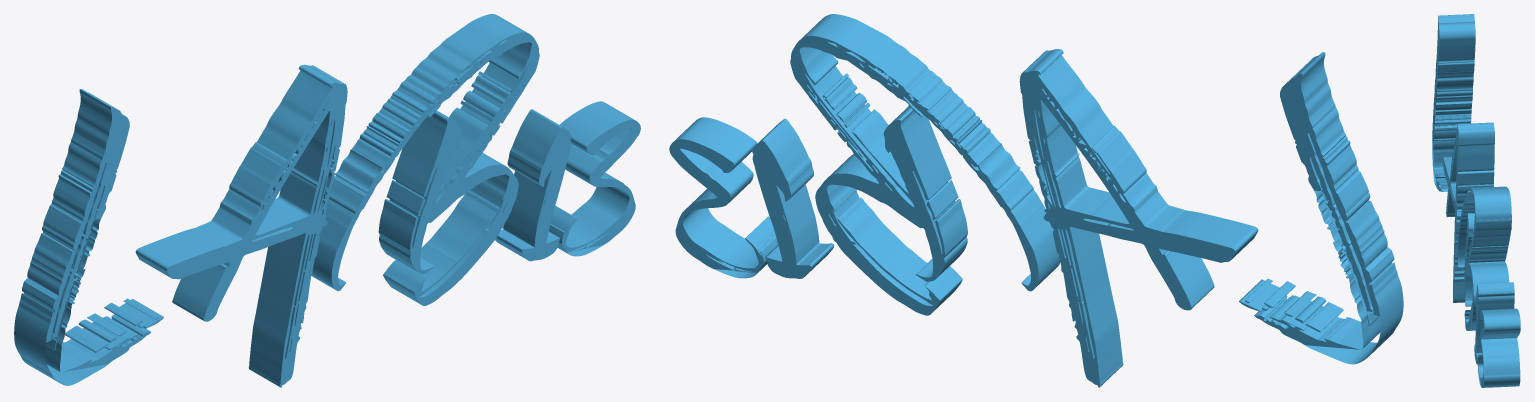
File: lab13.glb
3 views of the same model, side by side, from view 1: azimuth 30°, elevation 25°; view 2: azimuth 150°, elevation 25°; view 3: azimuth 270°, elevation 25° (orthographic). The views are drawn at different scales.
Visible parts, largest first — view 1: テキスト; view 2: テキスト; view 3: テキスト.
Boxes of the visible parts, left/top/right/bottom form: テキスト: left=14, top=14, right=640, bottom=387; テキスト: left=669, top=14, right=1403, bottom=387; テキスト: left=1432, top=14, right=1520, bottom=387.
Size of the model in its own units: 1.66 by 0.8266 by 0.2924.
